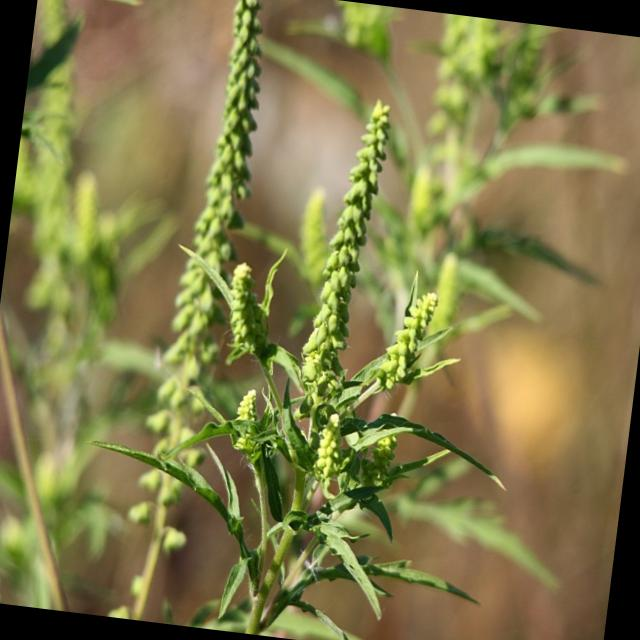ambrosia: (296, 70, 416, 466), (188, 244, 297, 471), (186, 0, 291, 232), (372, 260, 467, 484)
